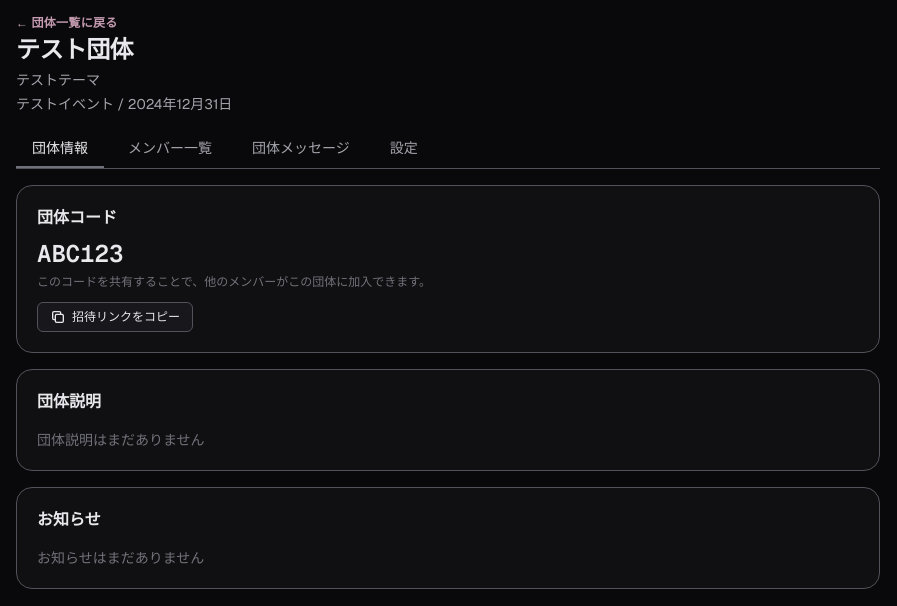
Test case: GroupDetailPage › オーナーでない場合、脱退ボタンを表示する
Expected: the heading "テスト団体" is shown, [16,34,133,65]
Click the text "設定": (404,148) [390,139,418,157]
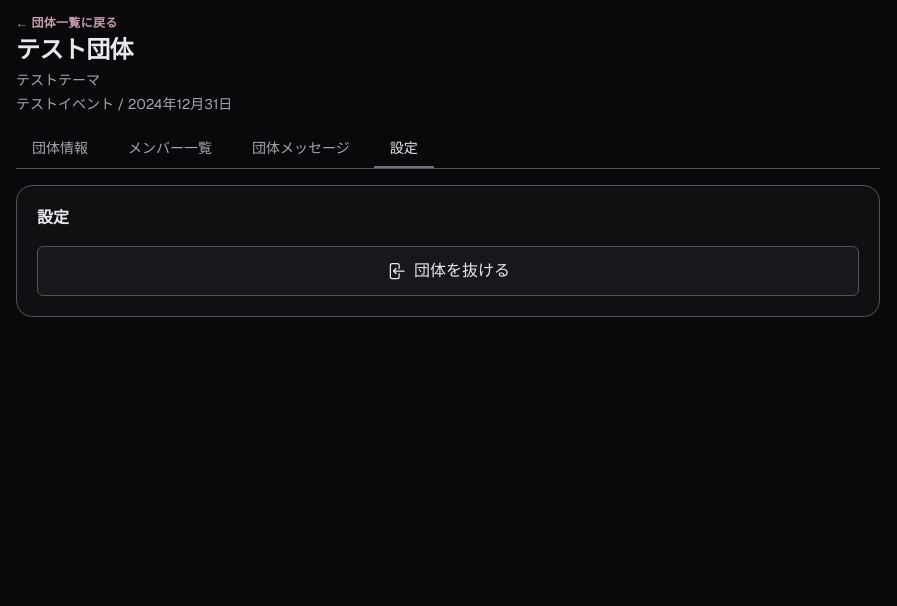
Expected: the button "団体を抜ける" is shown, [37,246,859,296]
